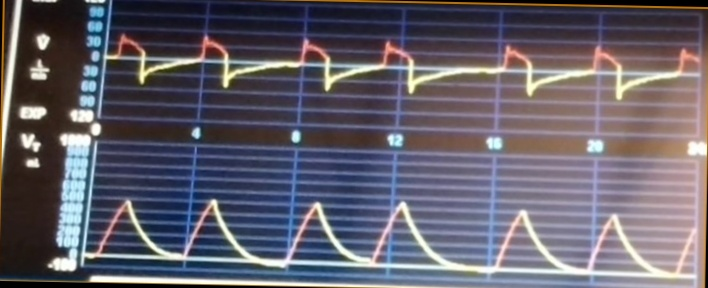Normal Flow: (111, 23, 698, 118)
Normal Volume: (90, 193, 696, 276)
